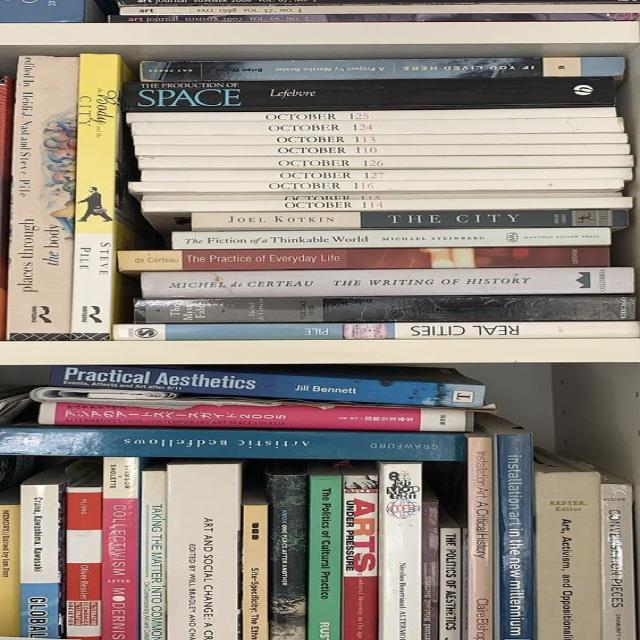book: (7, 57, 78, 338), (31, 388, 472, 431), (45, 365, 485, 408), (0, 426, 464, 461), (142, 267, 633, 299), (70, 54, 125, 339), (136, 295, 634, 323), (119, 246, 609, 274), (169, 464, 239, 640), (140, 57, 623, 81), (113, 321, 639, 341), (538, 473, 600, 640), (191, 209, 629, 231), (172, 228, 609, 249), (494, 434, 535, 640), (132, 119, 625, 135), (382, 461, 423, 640), (124, 108, 616, 122), (143, 197, 634, 211), (140, 168, 634, 181), (104, 457, 139, 640), (22, 485, 63, 640), (306, 468, 342, 639), (602, 483, 640, 640), (270, 475, 306, 640), (139, 156, 631, 168), (344, 474, 378, 640), (130, 179, 625, 190), (468, 439, 494, 640), (67, 485, 100, 640), (135, 134, 627, 144), (135, 146, 629, 155), (143, 471, 165, 640), (243, 506, 269, 640), (1, 506, 20, 636), (440, 527, 460, 640), (424, 502, 440, 640)
